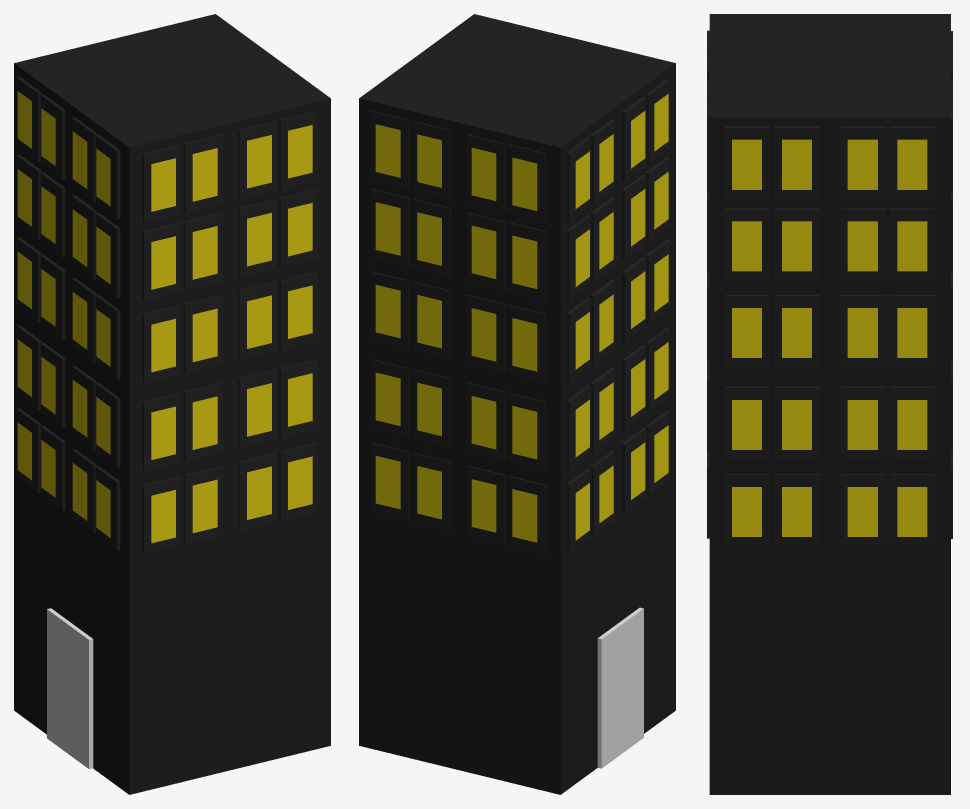
Rendered from buildiing_1.fbx.
The picture shows the model from 3 angles, left to right: view 1: azimuth 30°, elevation 25°; view 2: azimuth 150°, elevation 25°; view 3: azimuth 270°, elevation 25°; orthographic projection. The views are drawn at different scales.
Visible parts, largest first — view 1: Cube; view 2: Cube; view 3: Cube.
Boxes of the visible parts, x1,y1,x2,y2 form: Cube: [14, 14, 330, 794]; Cube: [359, 14, 675, 794]; Cube: [707, 14, 952, 794].
Size of the model in its own units: 21186 by 61777 by 20793.
